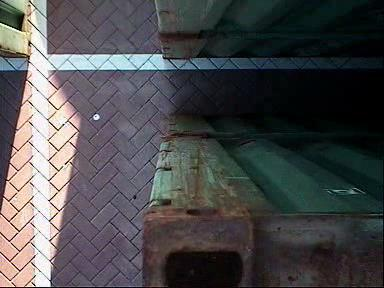groundmarker_2: (183, 122, 295, 278)
